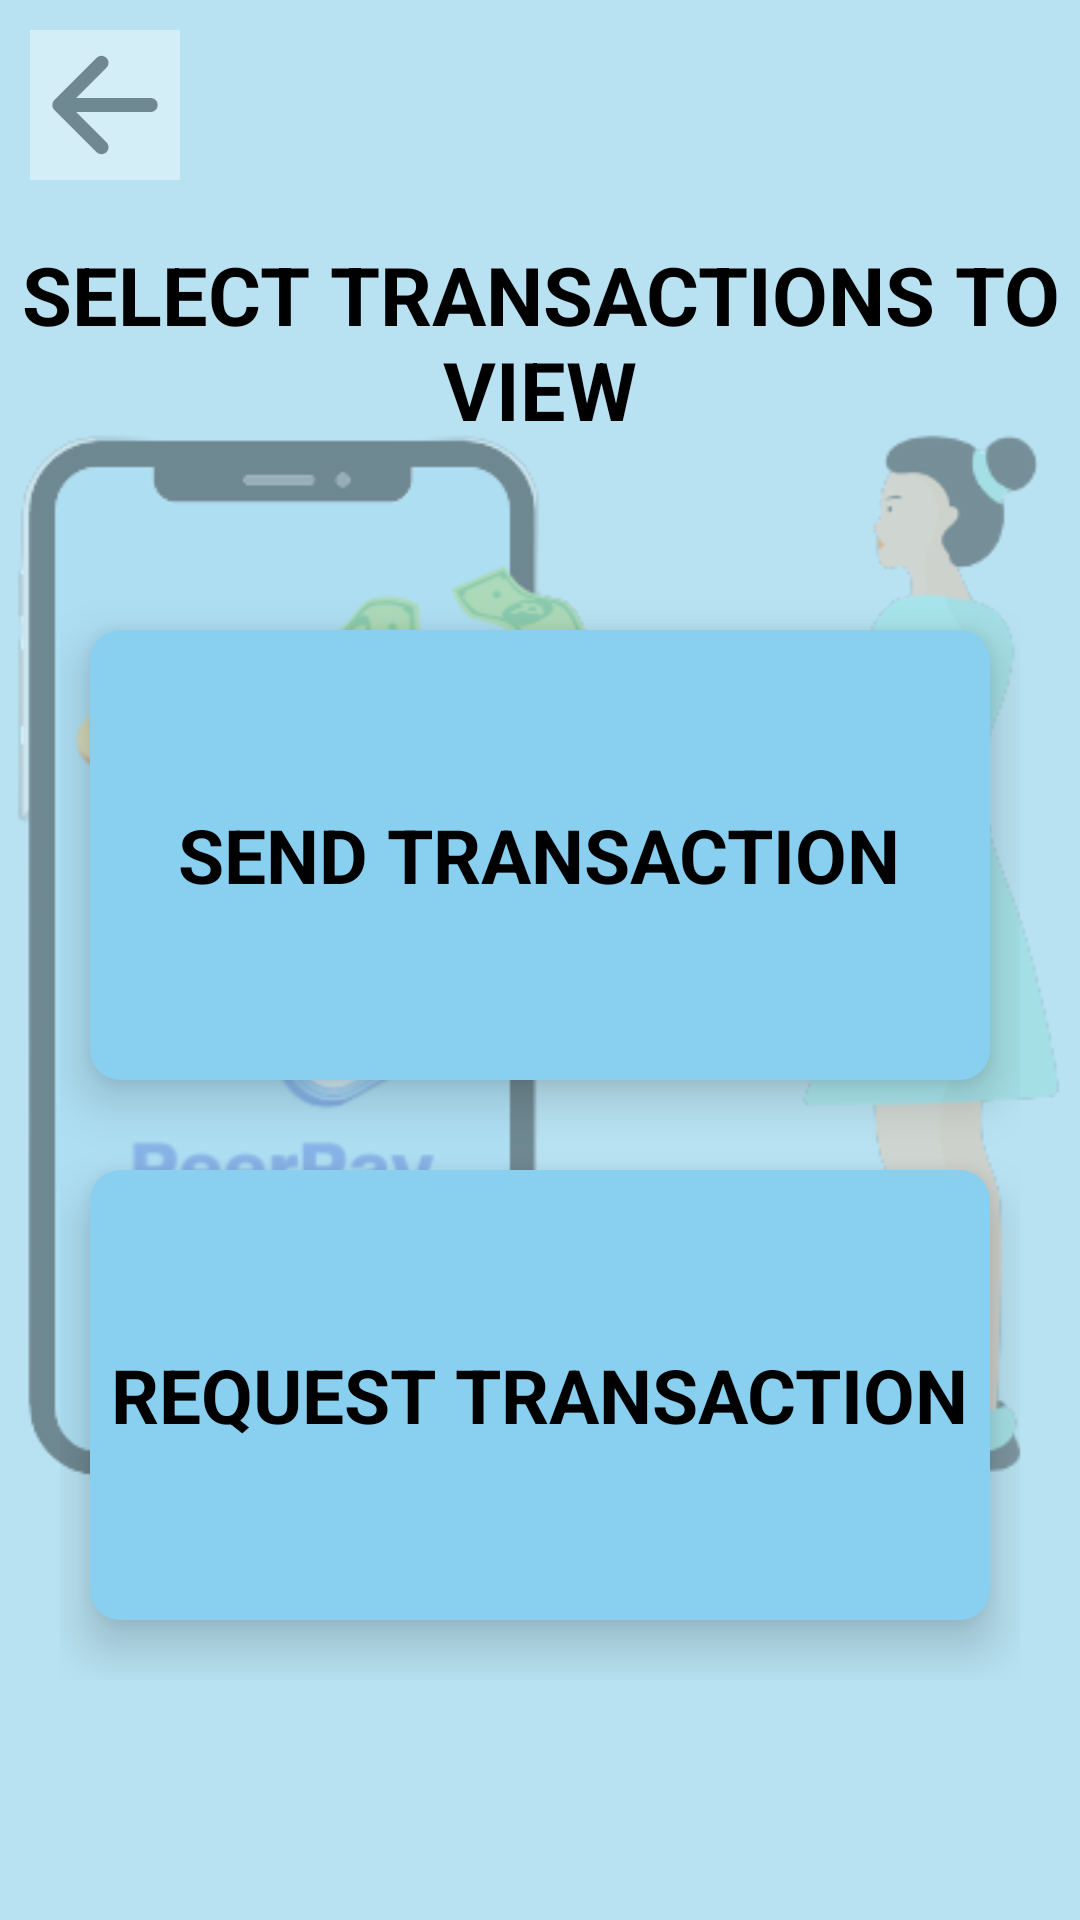

Icons on this 1080 × 1920 Android screen, each with its box as BBox(x1, y1, x2, y2):
Back Button: BBox(30, 30, 180, 180)
